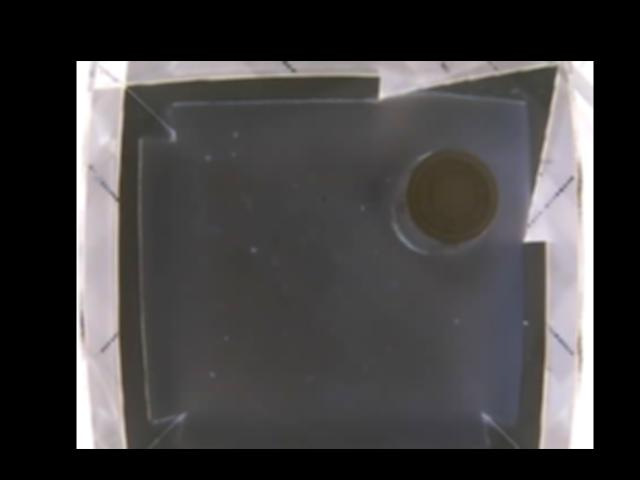Bottle: (388, 147, 499, 256)
